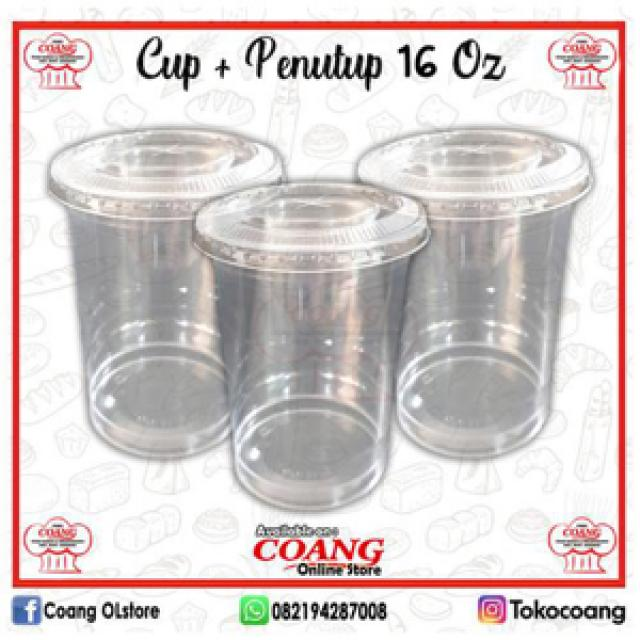plastic cup: (36, 117, 290, 465), (190, 177, 435, 518), (352, 124, 593, 467)
